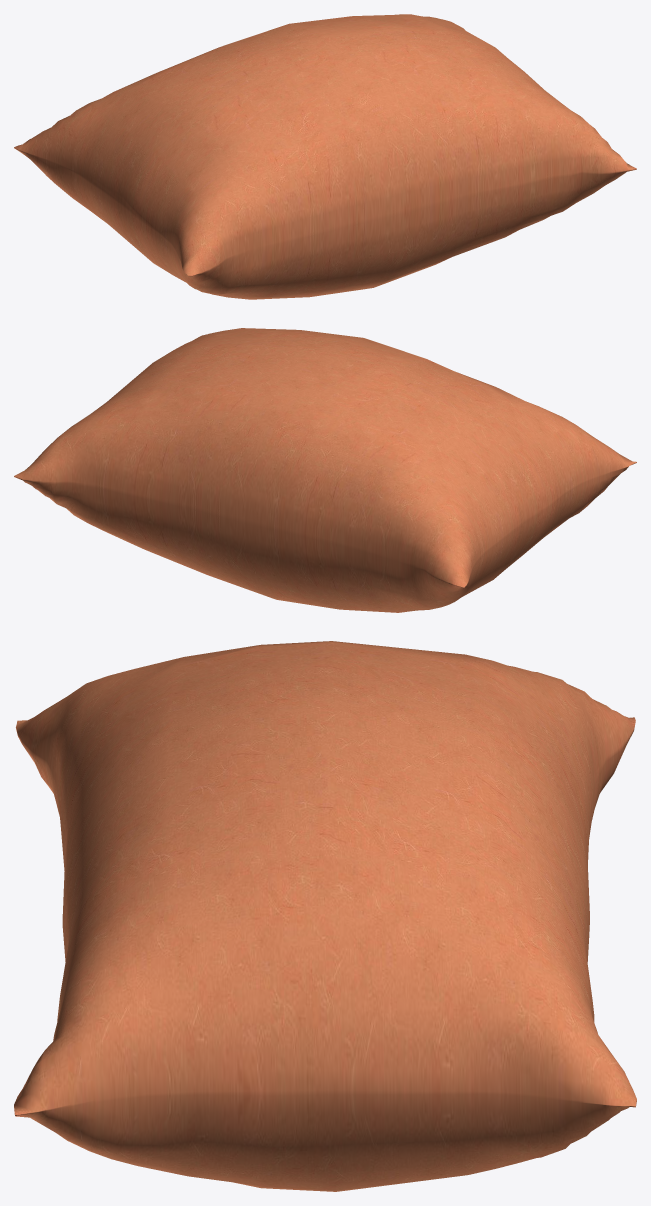
The model's file is YGB0110048.fbx.
3 renders of one model, top to bottom at view 1: azimuth 30°, elevation 25°; view 2: azimuth 150°, elevation 25°; view 3: azimuth 270°, elevation 25°, orthographic. The views are drawn at different scales.
Visible parts, largest first — view 1: smYGB0110048; view 2: smYGB0110048; view 3: smYGB0110048.
Part boxes in pixels (x1,y1,x2,y2): smYGB0110048: [14, 14, 636, 299]; smYGB0110048: [14, 328, 636, 612]; smYGB0110048: [14, 641, 636, 1191].
Size of the model in its own units: 152 by 75.72 by 102.
1 material, 1 textured.
